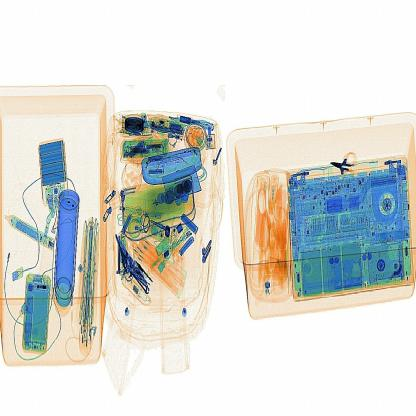gun: (326, 149, 370, 188)
